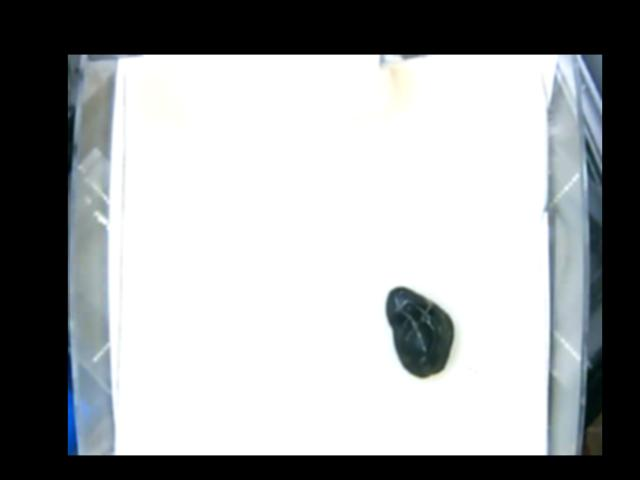Pebble: (385, 284, 455, 378)
